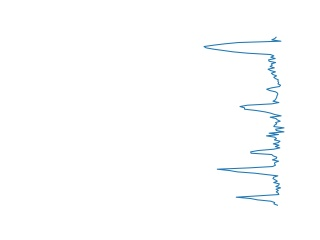distalBar: (201, 32, 284, 88)
interdistributaryEstuary: (236, 88, 287, 143)
underwaterNaturalLevee: (214, 143, 284, 210)
